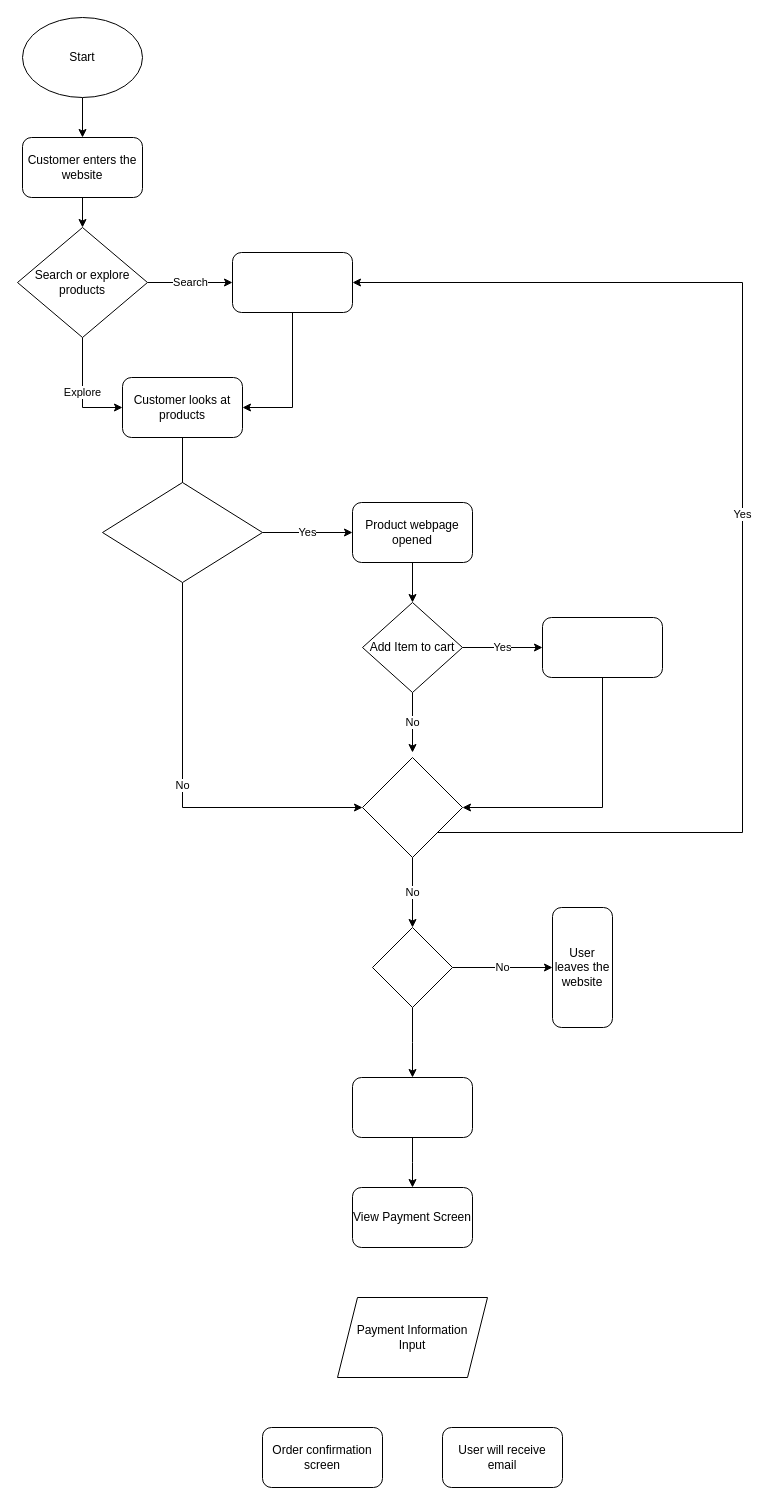
Some shapes in this 769 by 1505 pixel diagram are drawn without their labels. Here are the shapes that lost their labels. From the top down, the box of each, then its label:
(232, 252, 352, 312): Read user input
(102, 482, 262, 582): View at a specific product
(542, 616, 662, 678): Receive added to cart confirmation
(362, 756, 462, 858): Continue Shopping
(372, 926, 452, 1008): Checkout
(352, 1076, 472, 1138): View cart screen
